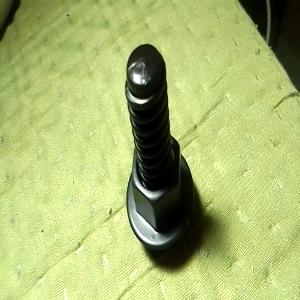parafuso: (124, 42, 195, 251)
